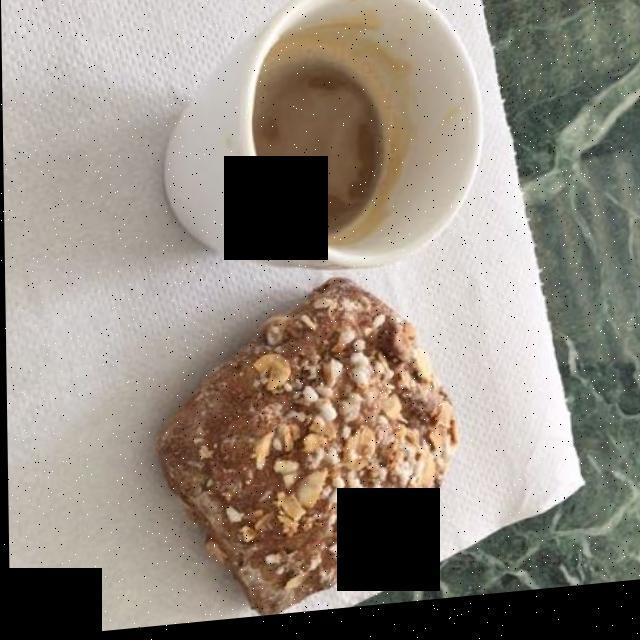bread: (161, 285, 457, 613)
coffee: (254, 22, 410, 250)
